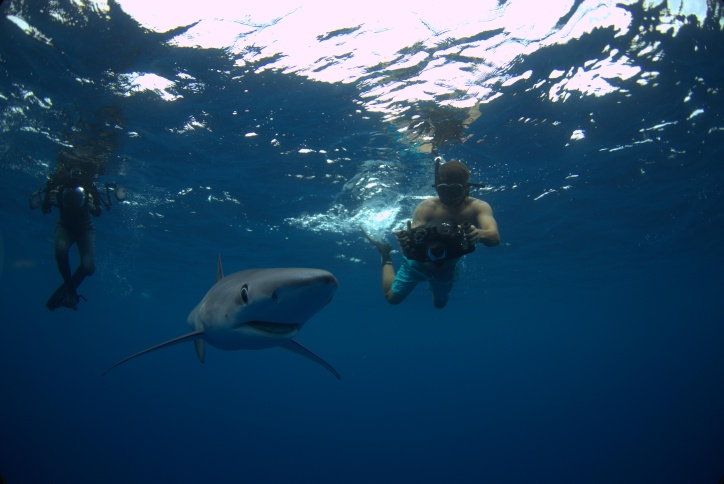Azul: (100, 248, 367, 394)
